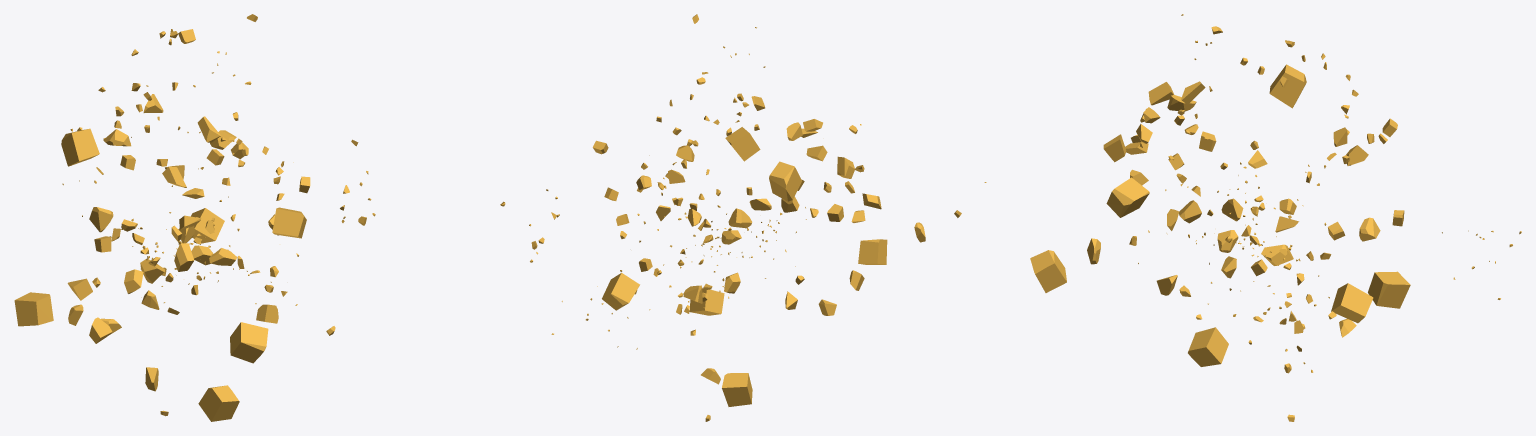
The model's file is miniexplode.f0008.glb.
3 views of the same model, side by side, from view 1: azimuth 30°, elevation 25°; view 2: azimuth 150°, elevation 25°; view 3: azimuth 270°, elevation 25° (orthographic). The views are drawn at different scales.
Visible parts, largest first — view 1: Cube_cell.003, Cube_cell.005, Cube_cell.007, Cube_cell.004, Cube_cell.002, Cube_cell.001, Cube_cell.006_cell.007, Cube.001_cell.024; view 2: Cube_cell.004, Cube_cell.005, Cube_cell.001, Cube_cell.007, Cube_cell.002, Cube_cell.003; view 3: Cube_cell.005, Cube_cell.003, Cube_cell.001, Cube_cell.007, Cube_cell.002, Cube_cell.004.
Boxes of the visible parts, bbox=[...] form: Cube_cell.003: bbox=[230, 322, 268, 363]; Cube_cell.005: bbox=[14, 292, 53, 326]; Cube_cell.007: bbox=[198, 385, 239, 421]; Cube_cell.004: bbox=[61, 128, 99, 166]; Cube_cell.002: bbox=[272, 207, 306, 238]; Cube_cell.001: bbox=[191, 208, 224, 243]; Cube_cell.006_cell.007: bbox=[174, 243, 194, 271]; Cube.001_cell.024: bbox=[89, 207, 113, 232]; Cube_cell.004: bbox=[769, 161, 801, 201]; Cube_cell.005: bbox=[722, 373, 752, 406]; Cube_cell.001: bbox=[602, 272, 639, 310]; Cube_cell.007: bbox=[858, 239, 887, 264]; Cube_cell.002: bbox=[725, 127, 760, 161]; Cube_cell.003: bbox=[689, 288, 724, 315]; Cube_cell.005: bbox=[1368, 271, 1410, 308]; Cube_cell.003: bbox=[1188, 327, 1228, 366]; Cube_cell.001: bbox=[1331, 283, 1373, 323]; Cube_cell.007: bbox=[1030, 250, 1066, 292]; Cube_cell.002: bbox=[1106, 177, 1149, 217]; Cube_cell.004: bbox=[1269, 64, 1306, 108].
Size of the model in its own units: 10.11 by 9.12 by 11.17.
